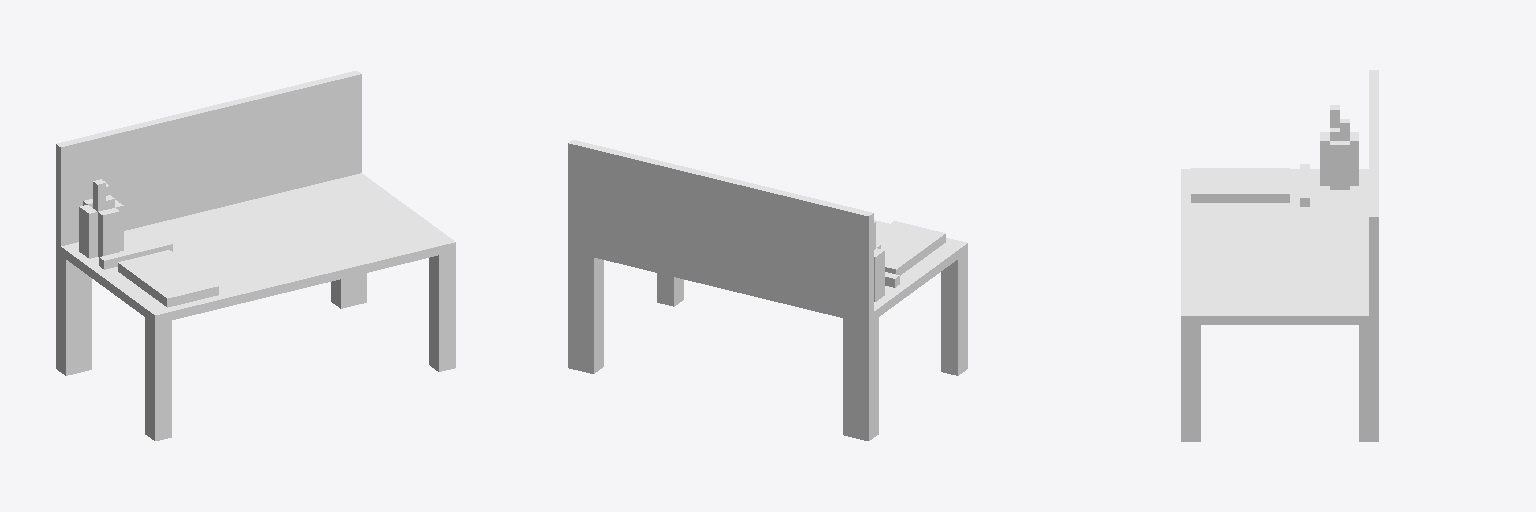
Rendered from laz_table_nolaptop_35_20_25.obj.
The picture shows the model from 3 angles: view 1: azimuth 30°, elevation 25°; view 2: azimuth 150°, elevation 25°; view 3: azimuth 270°, elevation 25°; orthographic projection.
Visible parts, largest first — view 1: object 1; view 2: object 1; view 3: object 1.
Part boxes in pixels (x1,y1,x2,y2): object 1: (56,71,455,440); object 1: (568,140,967,440); object 1: (1181,70,1378,441).
Bounding box in the file's own units: 3.5 × 2.5 × 2.